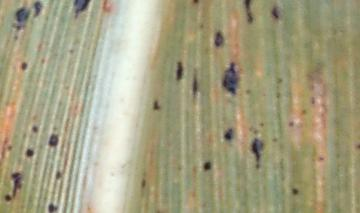tarspot: (2, 171, 26, 203), (221, 61, 239, 96), (71, 1, 92, 22), (241, 1, 256, 24), (251, 137, 264, 163), (15, 6, 31, 24), (31, 1, 44, 20), (212, 30, 225, 48), (190, 69, 199, 93), (47, 133, 60, 148), (175, 61, 183, 80), (10, 22, 26, 31), (269, 6, 280, 19), (223, 127, 233, 140), (152, 99, 162, 112), (47, 202, 58, 213), (289, 186, 299, 197), (202, 160, 212, 171), (25, 148, 35, 159), (140, 177, 147, 190), (269, 134, 279, 143), (274, 89, 281, 101), (30, 125, 39, 134), (19, 61, 28, 70), (55, 170, 63, 180), (309, 95, 316, 106), (11, 34, 22, 41), (287, 119, 295, 128), (243, 87, 251, 96), (6, 143, 14, 152), (258, 119, 265, 128), (316, 155, 325, 162), (276, 76, 283, 85), (67, 48, 74, 57), (39, 56, 46, 65), (300, 108, 308, 115), (355, 142, 360, 153), (191, 1, 199, 4)
